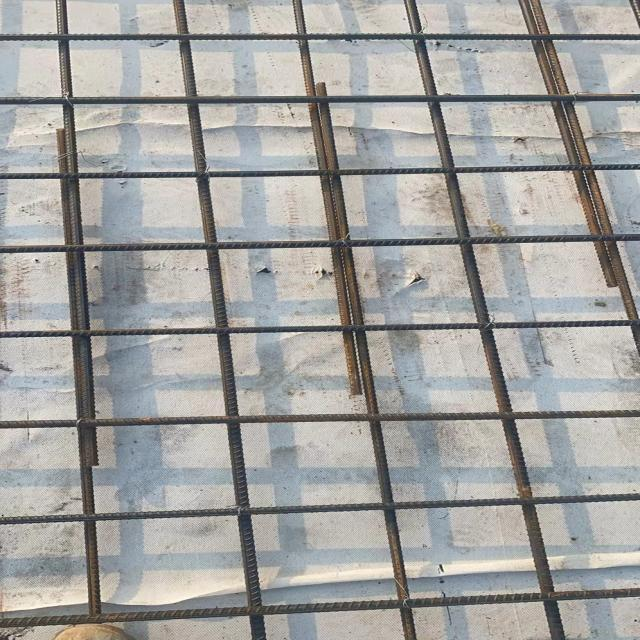ribbed bar: (403, 0, 565, 639), (291, 0, 418, 639), (169, 0, 268, 639), (516, 0, 639, 373), (44, 0, 113, 615), (0, 586, 639, 628), (0, 493, 639, 525), (0, 408, 639, 429), (0, 234, 639, 254), (0, 318, 639, 338), (0, 163, 639, 180), (0, 91, 639, 104), (0, 32, 639, 42)
